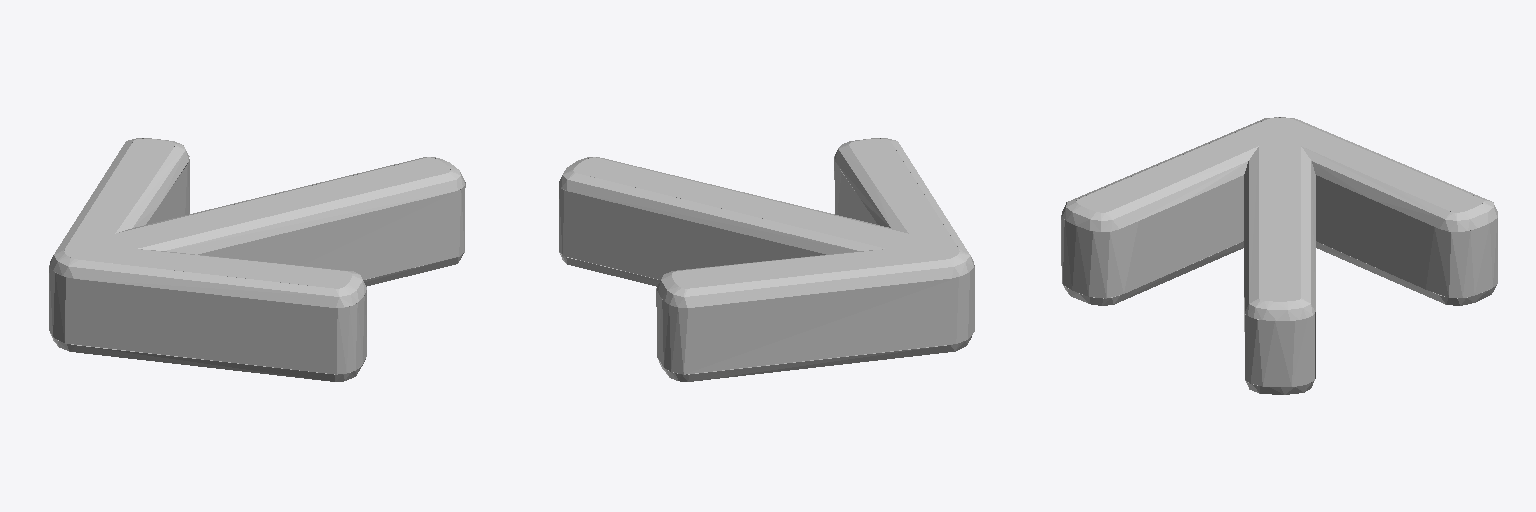
File: arrow_left.obj
3 views of the same model, side by side, from view 1: azimuth 30°, elevation 25°; view 2: azimuth 150°, elevation 25°; view 3: azimuth 270°, elevation 25° (orthographic).
Visible parts, largest first — view 1: A_Text.048; view 2: A_Text.048; view 3: A_Text.048.
Part boxes in pixels (x1,y1,x2,y2): A_Text.048: (49, 138, 465, 381); A_Text.048: (559, 138, 974, 381); A_Text.048: (1061, 117, 1497, 394).
Size of the model in its own units: 0.6358 by 0.1401 by 0.5974.